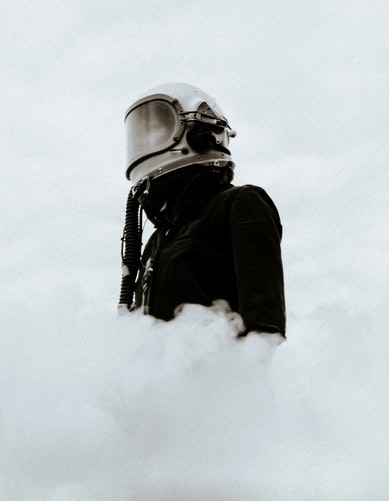helmet: (114, 81, 239, 188)
